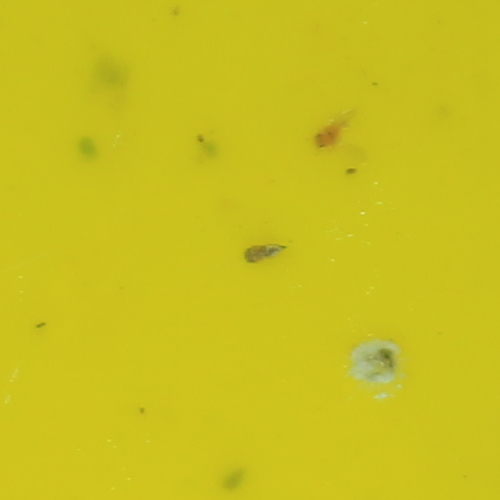psylla: (313, 116, 343, 151), (239, 243, 290, 263)
